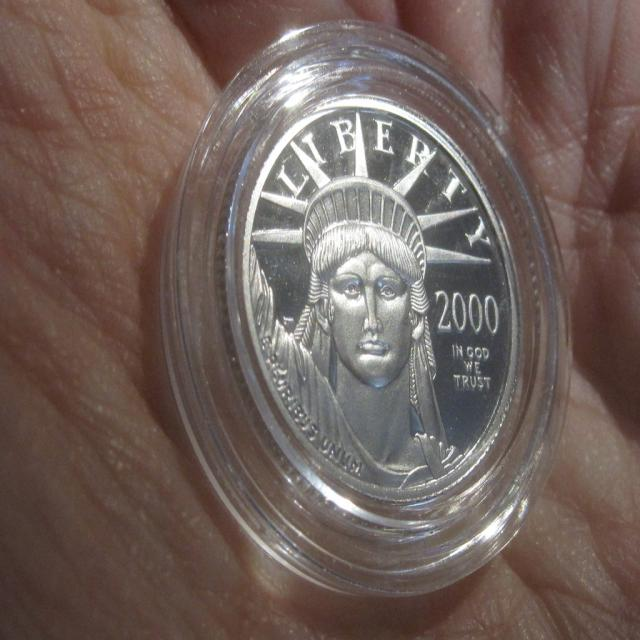Coin: (240, 93, 518, 499)
